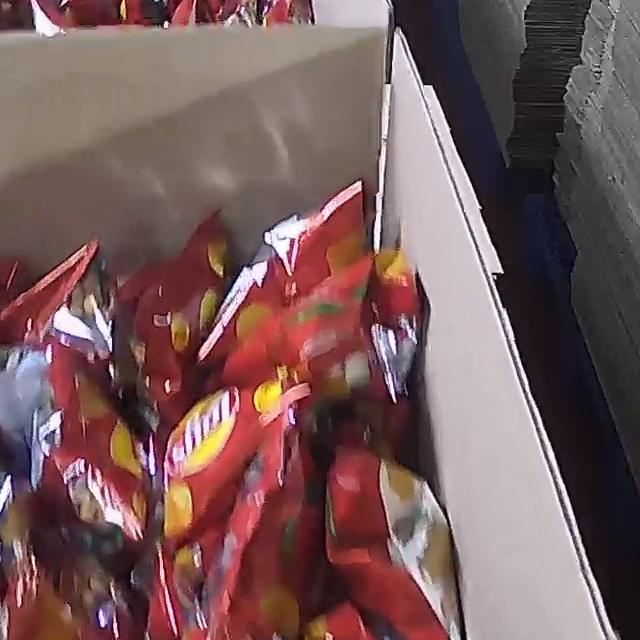masala: (0, 177, 494, 640), (0, 0, 330, 30)
